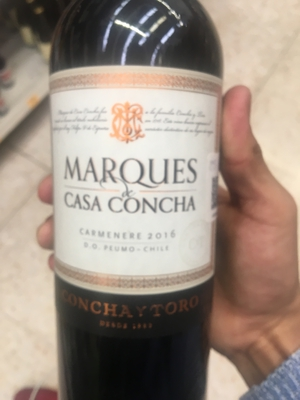marques de casa concha carmenere: (41, 4, 232, 384)
